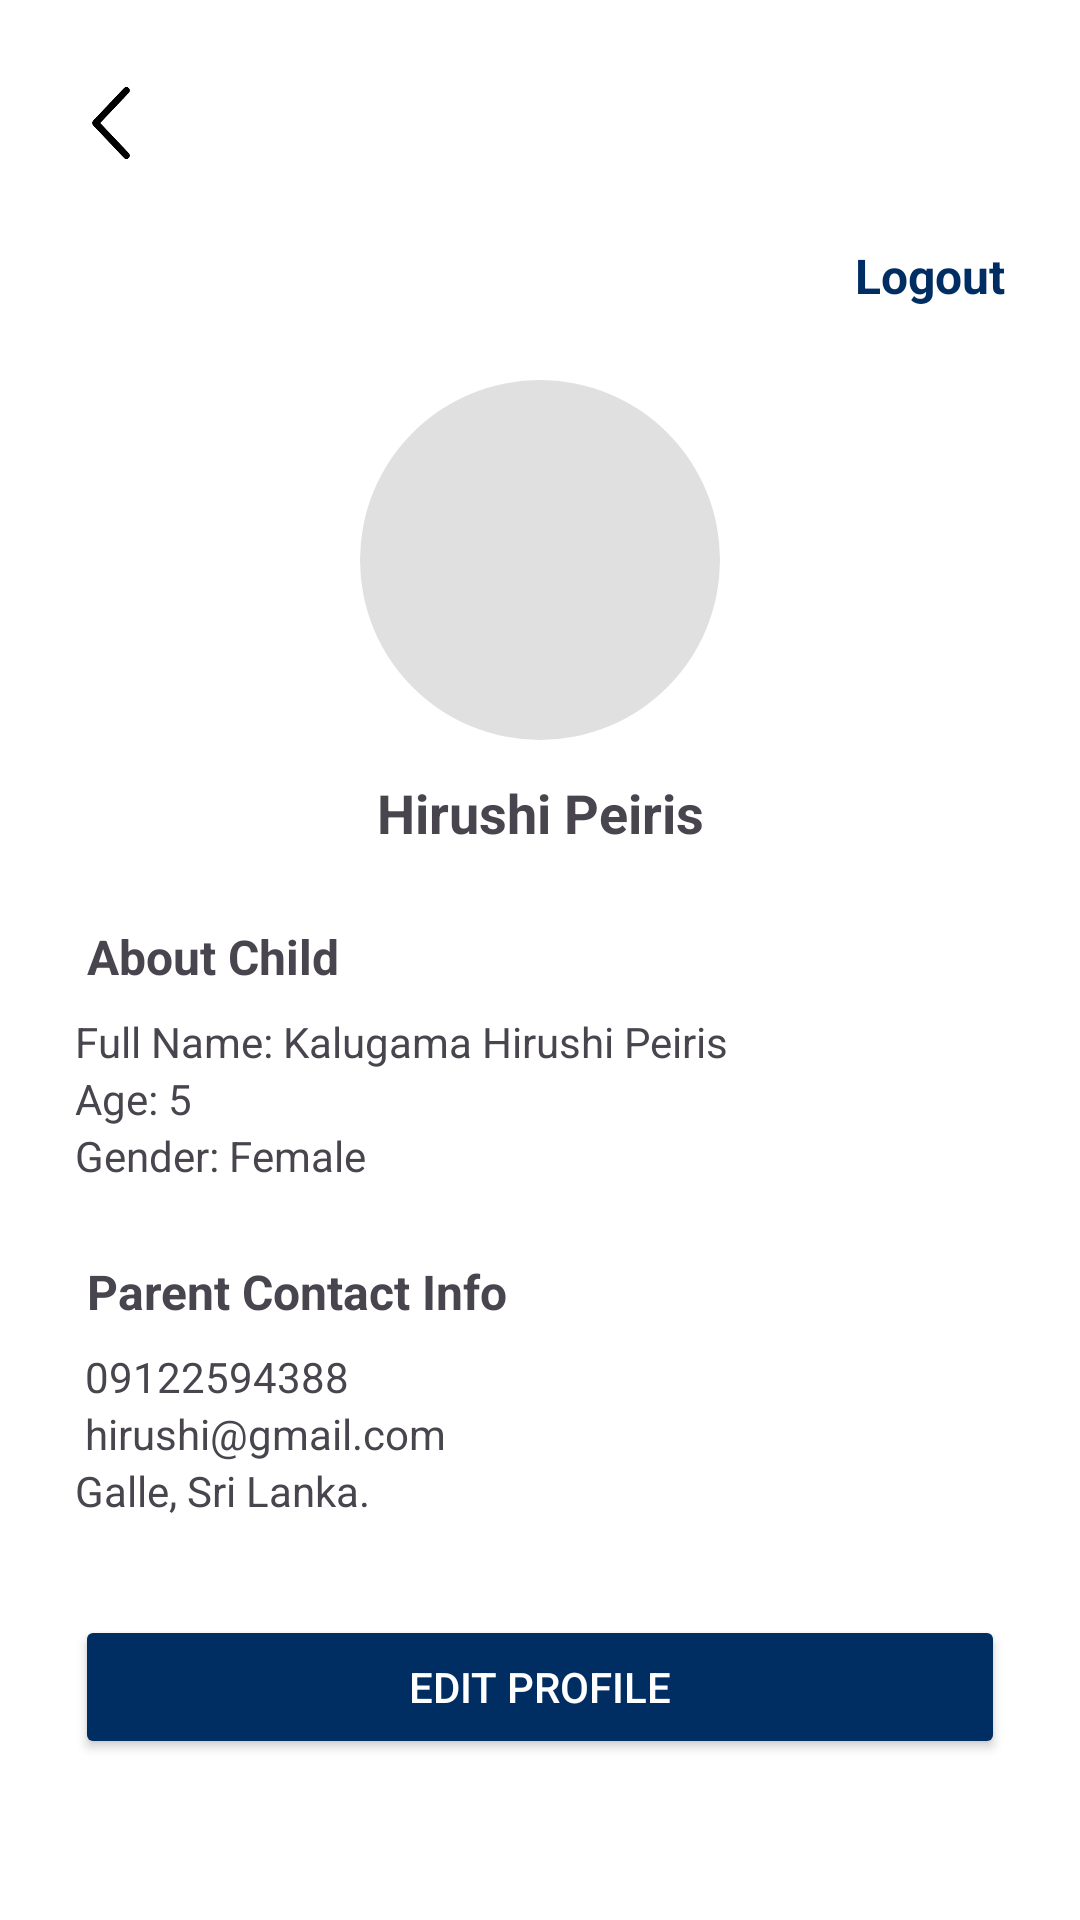

Where icons sit on this 1080 x 1920 app screen, as (x1, y1, x2, y2):
Back: (92, 87, 130, 159)
